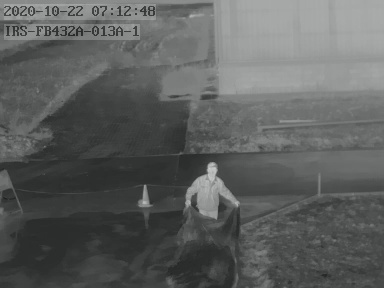person: (185, 162, 237, 215)
